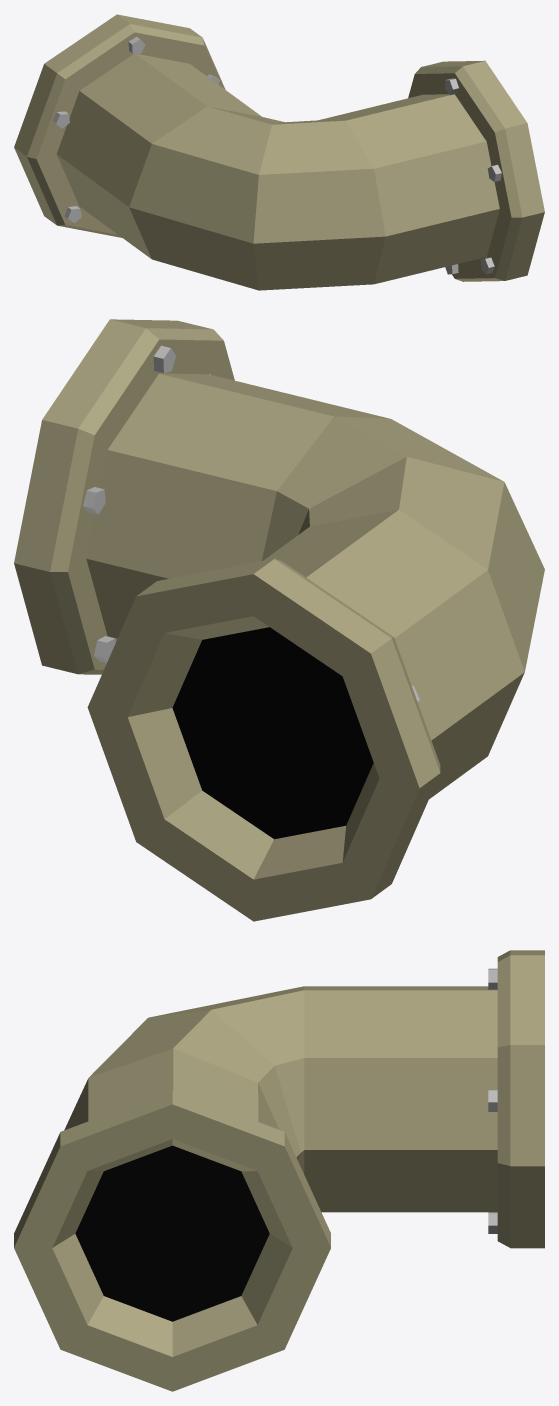
The model's file is CurvePipe.glb.
3 views of the same model, one above another, from view 1: azimuth 30°, elevation 25°; view 2: azimuth 150°, elevation 25°; view 3: azimuth 270°, elevation 25° (orthographic). The views are drawn at different scales.
Parts seen in each view (by area): view 1: ShortCurvedPipe; view 2: ShortCurvedPipe; view 3: ShortCurvedPipe.
Part boxes in pixels (x1,y1,x2,y2): ShortCurvedPipe: (14,14,544,290); ShortCurvedPipe: (14,319,544,921); ShortCurvedPipe: (14,950,544,1391).
Size of the model in its own units: 4.25 by 2.64 by 4.42.
